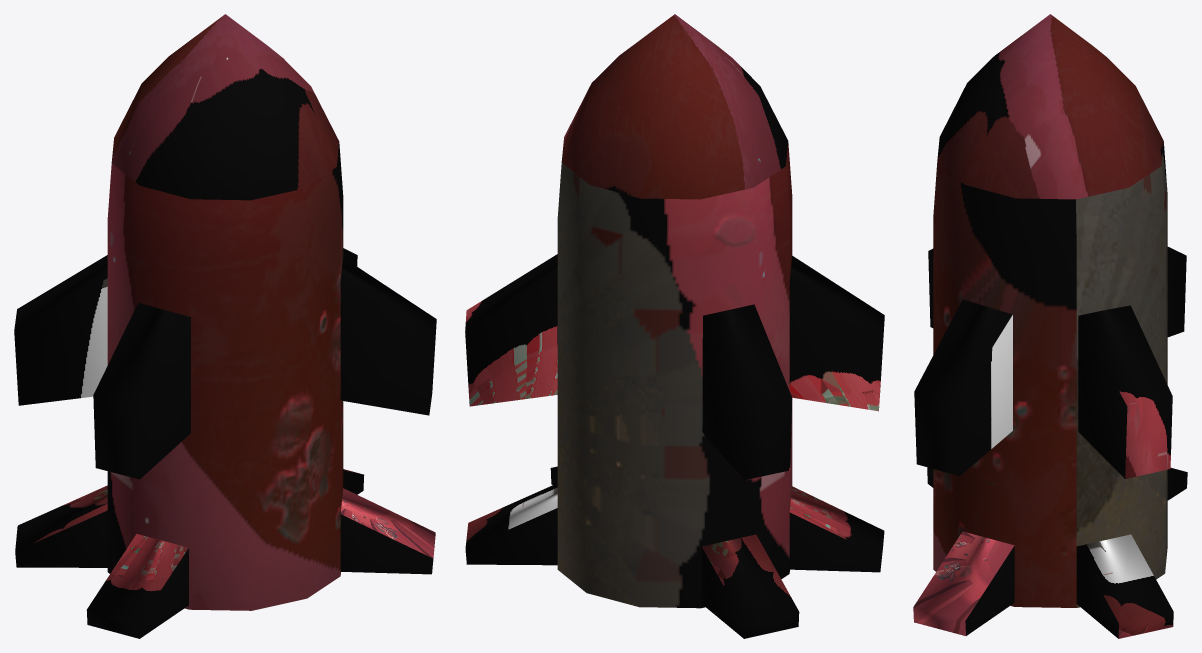
Rendered from missalie.fbx.
3 views of the same model, side by side, from view 1: azimuth 30°, elevation 25°; view 2: azimuth 150°, elevation 25°; view 3: azimuth 270°, elevation 25° (orthographic).
Visible parts, largest first — view 1: Cylinder.001; view 2: Cylinder.001; view 3: Cylinder.001.
Part boxes in pixels (box(x1,y1,x2,y2)): Cylinder.001: box(14, 14, 436, 638); Cylinder.001: box(465, 14, 884, 638); Cylinder.001: box(913, 14, 1187, 638).
Bounding box in the file's own units: 55.78 × 84.2 × 38.45.
